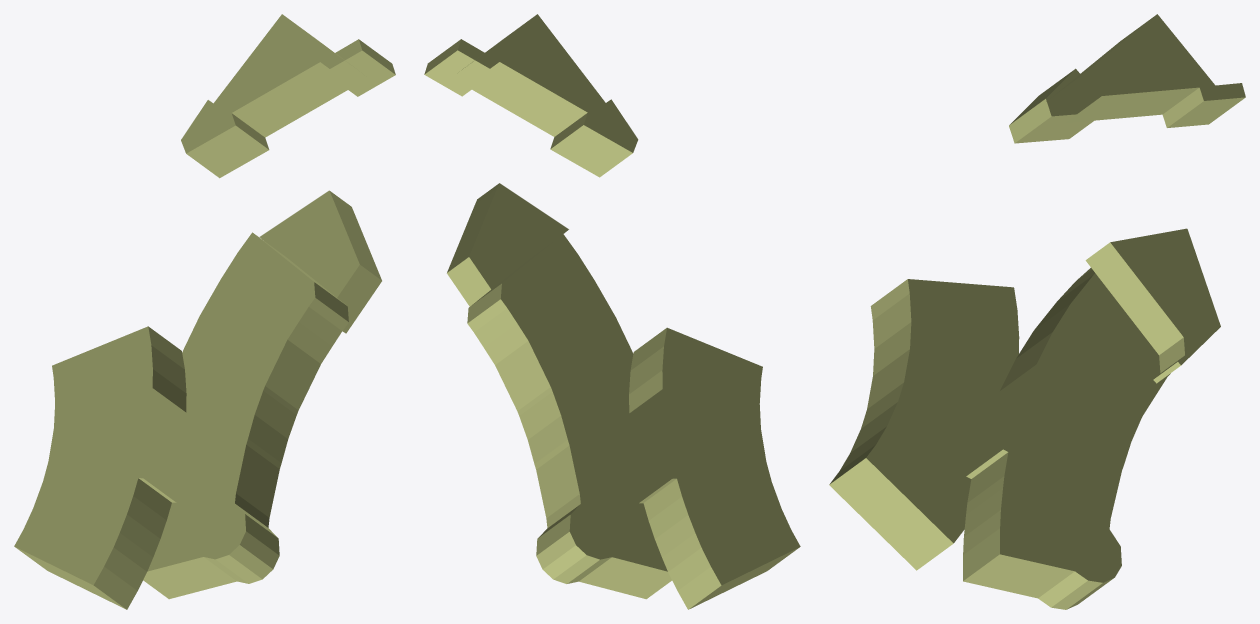
The picture shows the model from 3 angles, left to right: view 1: azimuth 30°, elevation 25°; view 2: azimuth 150°, elevation 25°; view 3: azimuth 330°, elevation 25°; orthographic projection. The views are drawn at different scales.
Parts seen in each view (by area): view 1: 0_0_1_3_2_2; view 2: 0_0_1_3_2_2; view 3: 0_0_1_3_2_2.
Boxes of the visible parts, x1,y1,x2,y2 form: 0_0_1_3_2_2: (14,14,395,609); 0_0_1_3_2_2: (424,14,800,609); 0_0_1_3_2_2: (829,14,1245,609).
Size of the model in its own units: 53.57 by 78.47 by 9.5.
